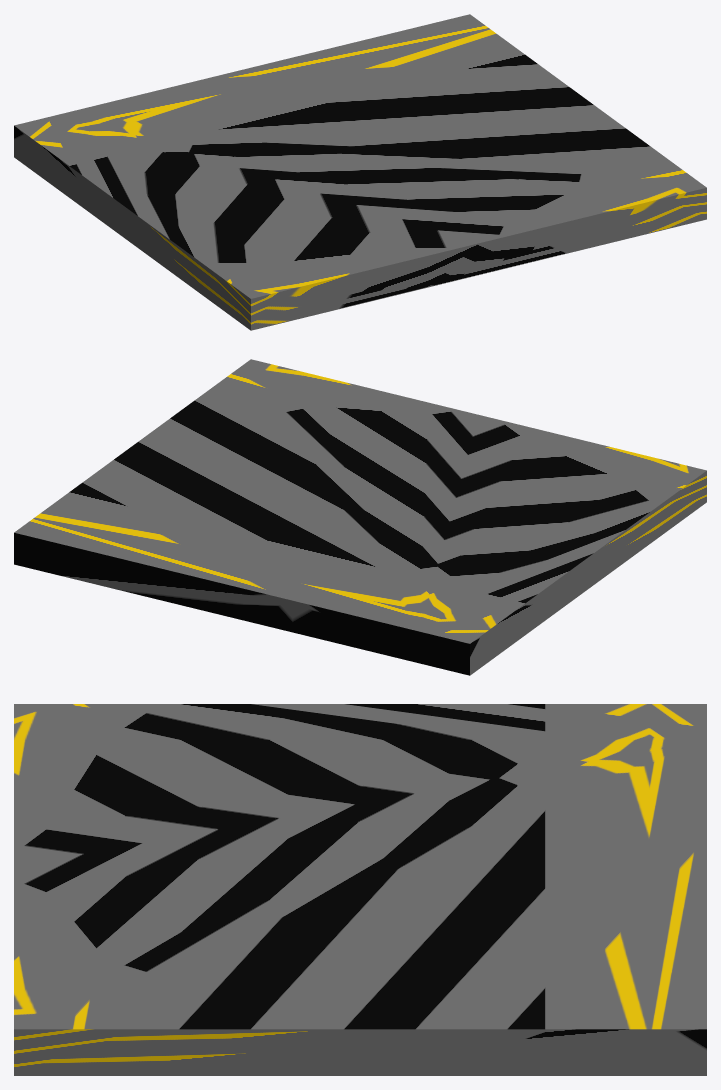
Rendered from platform03.fbx.
3 views of the same model, one above another, from view 1: azimuth 30°, elevation 25°; view 2: azimuth 150°, elevation 25°; view 3: azimuth 270°, elevation 25° (orthographic). The views are drawn at different scales.
Parts seen in each view (by area): view 1: platform03; view 2: platform03; view 3: platform03.
Boxes of the visible parts, bbox=[...] form: platform03: bbox=[14, 14, 706, 330]; platform03: bbox=[14, 359, 706, 675]; platform03: bbox=[14, 704, 706, 1075].
Size of the model in its own units: 3 by 0.2 by 2.7.
